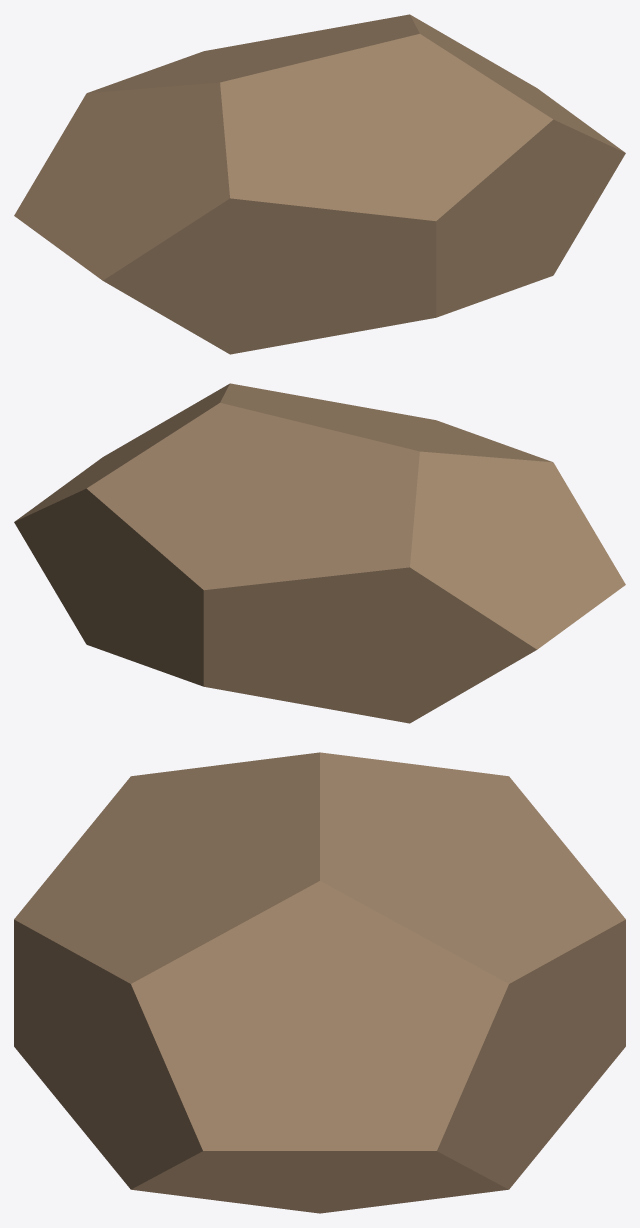
File: biome-orchard-pebble.glb
3 views of the same model, one above another, from view 1: azimuth 30°, elevation 25°; view 2: azimuth 150°, elevation 25°; view 3: azimuth 270°, elevation 25° (orthographic). The views are drawn at different scales.
Bounding box in the file's own units: 0.5343 × 0.2466 × 0.411.
